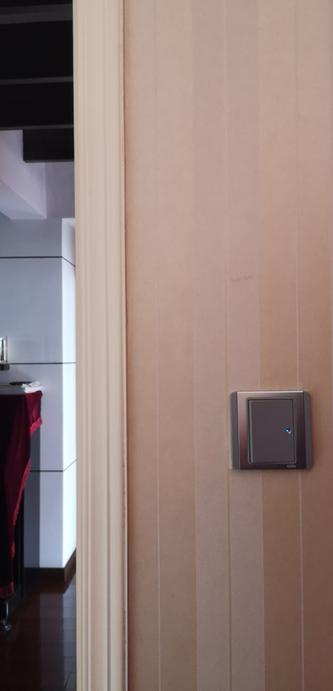switch: (249, 398, 299, 471)
